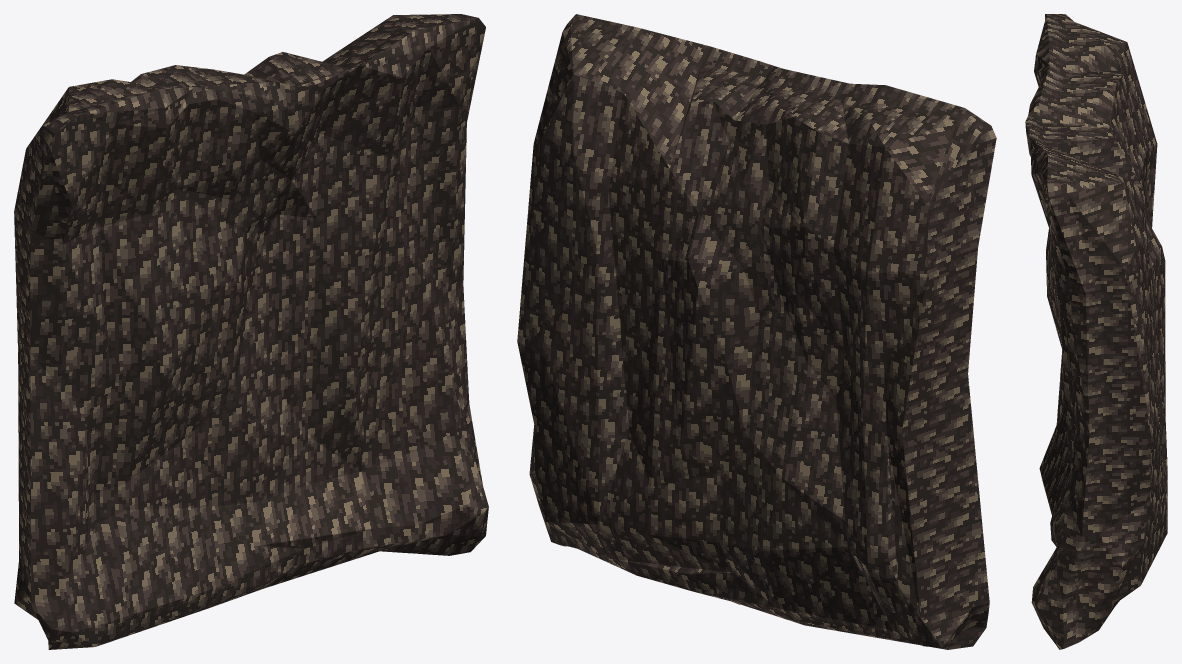
The model's file is CAVE_Wall_01.fbx.
3 views of the same model, side by side, from view 1: azimuth 30°, elevation 25°; view 2: azimuth 150°, elevation 25°; view 3: azimuth 270°, elevation 25° (orthographic). The views are drawn at different scales.
Parts seen in each view (by area): view 1: CAVE_wall_01; view 2: CAVE_wall_01; view 3: CAVE_wall_01.
Boxes of the visible parts, left/top/right/bottom form: CAVE_wall_01: left=14, top=14, right=488, bottom=649; CAVE_wall_01: left=517, top=14, right=996, bottom=649; CAVE_wall_01: left=1025, top=14, right=1167, bottom=649.
Bounding box in the file's own units: 5.14 × 5.93 × 1.61.
1 material, 1 textured.
